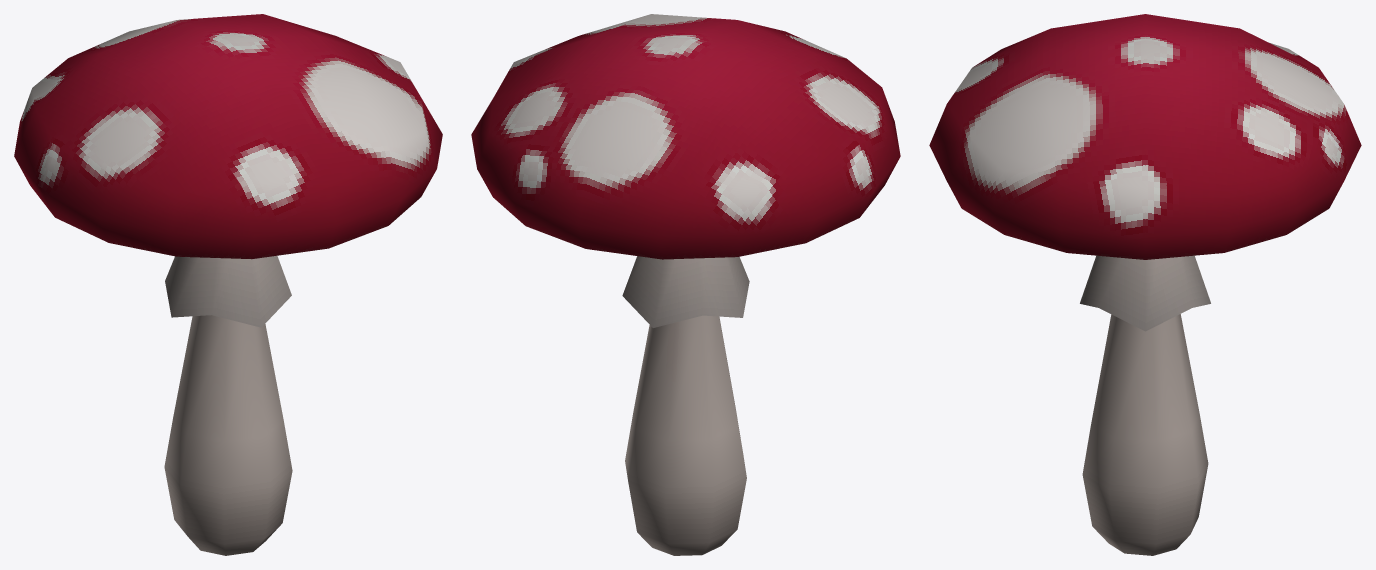
Rendered from prototype.glb.
The picture shows the model from 3 angles, left to right: view 1: azimuth 30°, elevation 25°; view 2: azimuth 150°, elevation 25°; view 3: azimuth 270°, elevation 25°; orthographic projection.
Visible parts, largest first — view 1: Fly_Agaric_Basic_textured_512; view 2: Fly_Agaric_Basic_textured_512; view 3: Fly_Agaric_Basic_textured_512.
Part boxes in pixels (x1,y1,x2,y2): Fly_Agaric_Basic_textured_512: [14, 14, 442, 555]; Fly_Agaric_Basic_textured_512: [471, 14, 900, 555]; Fly_Agaric_Basic_textured_512: [929, 14, 1361, 555].
Bounding box in the file's own units: 0.7831 × 1 × 0.7831.
1 material, 1 textured.
